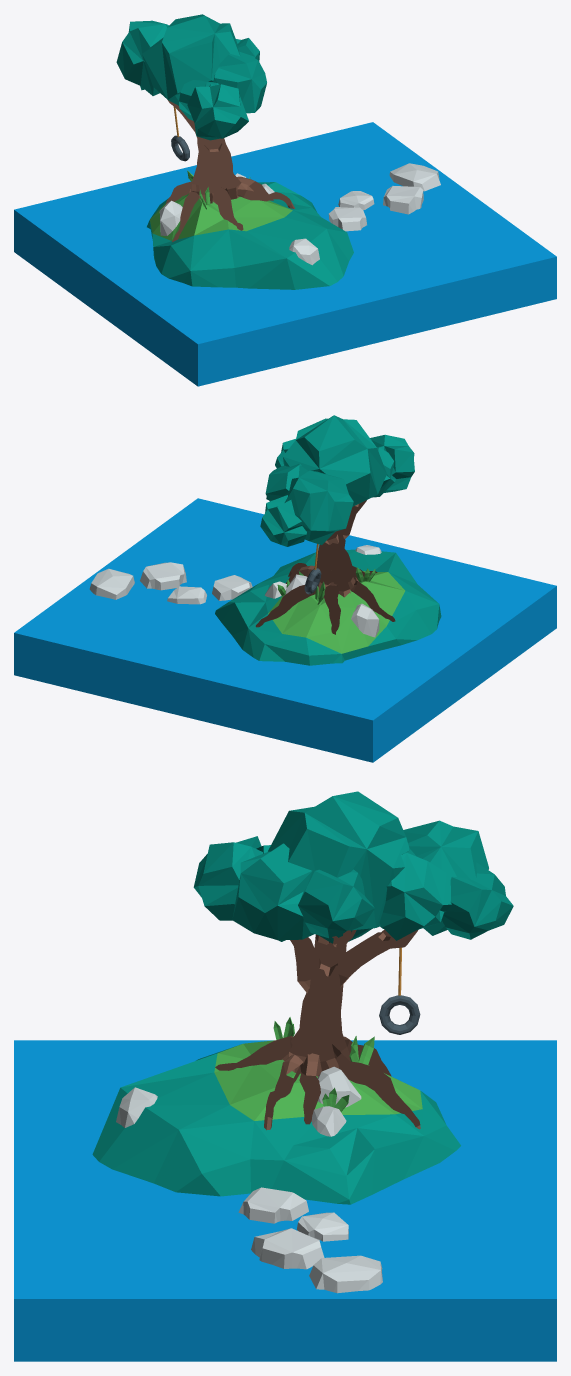
The model's file is Dream Tree.glb.
3 renders of one model, top to bottom at view 1: azimuth 30°, elevation 25°; view 2: azimuth 150°, elevation 25°; view 3: azimuth 270°, elevation 25°, orthographic. The views are drawn at different scales.
Parts seen in each view (by area): view 1: group1790380980, group592643478, group1892950699, group724340716, group788044031, group1378356452; view 2: group1790380980, group592643478, group724340716, group1892950699, group788044031, group1378356452; view 3: group1790380980, group592643478, group1892950699, group724340716, group788044031, group1378356452.
Part boxes in pixels (box(x1,y1,x2,y2)): group1790380980: box(14, 122, 556, 386); group592643478: box(116, 14, 353, 289); group1892950699: box(389, 163, 440, 191); group724340716: box(383, 186, 423, 214); group788044031: box(328, 207, 366, 231); group1378356452: box(338, 191, 374, 210); group1790380980: box(14, 498, 556, 762); group592643478: box(215, 415, 441, 665); group724340716: box(140, 562, 186, 590); group1892950699: box(89, 568, 134, 599); group788044031: box(212, 575, 252, 600); group1378356452: box(167, 586, 206, 604); group1790380980: box(14, 1040, 556, 1361); group592643478: box(92, 791, 513, 1204); group1892950699: box(309, 1255, 382, 1293); group724340716: box(251, 1228, 324, 1269); group788044031: box(238, 1187, 308, 1223); group1378356452: box(296, 1212, 348, 1241).
Size of the model in its own units: 1.33 by 0.9545 by 1.18.
